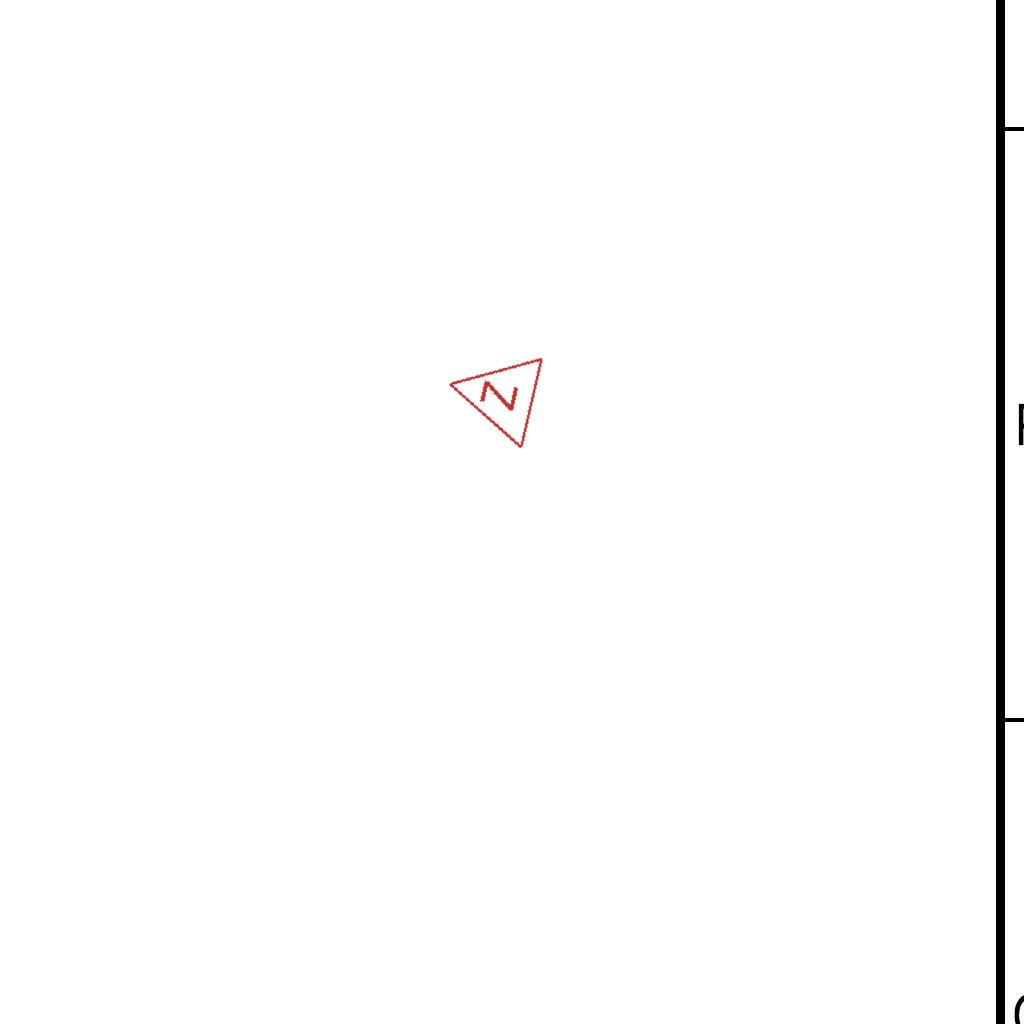Zimmersignalleuchte: (431, 336, 551, 454)
